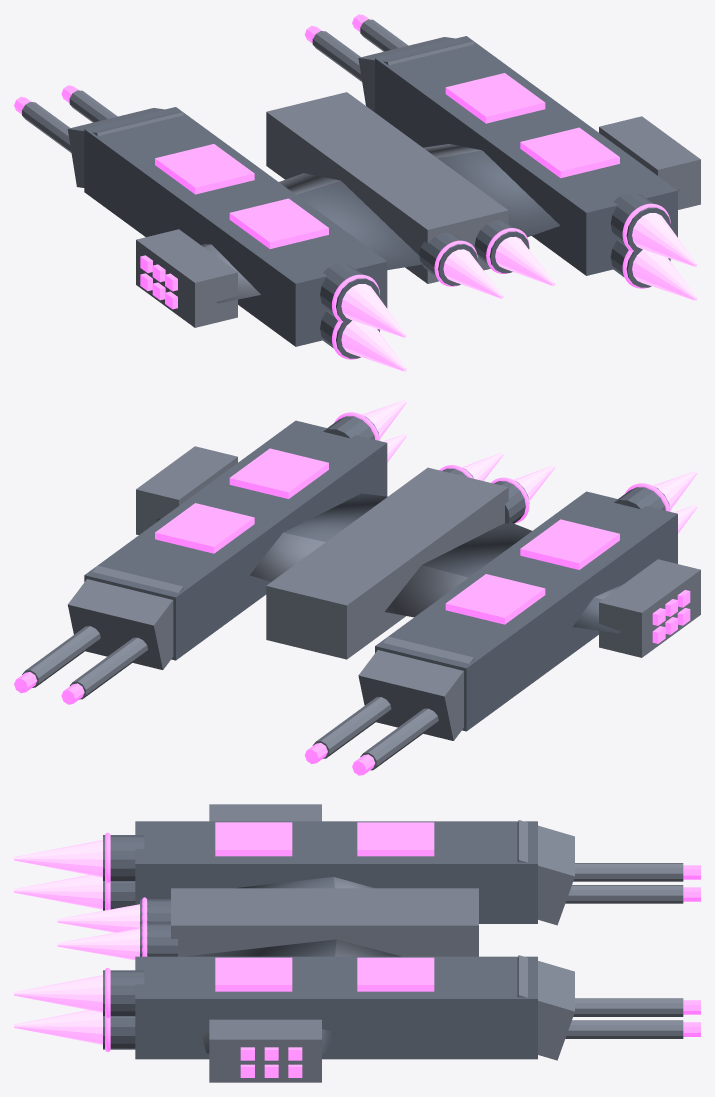
The model's file is Enemigo_Pesado.glb.
3 renders of one model, top to bottom at view 1: azimuth 30°, elevation 25°; view 2: azimuth 150°, elevation 25°; view 3: azimuth 270°, elevation 25°, orthographic. The views are drawn at different scales.
Parts seen in each view (by area): view 1: Cube.002, Cube.013, Cube, Cube.006, Puente_Transversal_Golem_-1.0, Cube.017, Puente_Transversal_Golem_1.0, Cube.015, Cube.004, Cube.005, Cube.016, propulsor.001 (+18 smaller); view 2: Cube.002, Cube, Cube.013, Cube.014, Cube.003, Cube.006, Puente_Transversal_Golem_-1.0, Cube.017, Puente_Transversal_Golem_1.0, Cube.004, Cube.005, Cube.016 (+12 smaller); view 3: Cube.013, Cube.002, Cube, Cube.017, Cube.003, Cube.014, Cube.004, Cube.005, Cube.015, Cube.016, Cylinder.002, Cylinder.006 (+17 smaller).
Part boxes in pixels (x1,y1,x2,y2): Cube.002: (84,107,387,346); Cube.013: (375,36,677,275); Cube: (266,92,508,283); Cube.006: (136,229,237,327); Puente_Transversal_Golem_-1.0: (279,173,422,269); Cube.017: (599,116,700,209); Puente_Transversal_Golem_1.0: (423,144,560,237); Cube.015: (445,73,545,123); Cube.004: (155,144,254,194); Cube.005: (229,198,328,248); Cube.016: (520,127,619,178); propulsor.001: (341,284,406,337); Cube.002: (375,491,677,731); Cube: (266,467,508,659); Cube.013: (84,420,387,660); Cube.014: (67,565,183,669); Cube.003: (358,636,474,740); Cube.006: (599,559,700,657); Puente_Transversal_Golem_-1.0: (384,522,531,617); Cube.017: (136,446,237,534); Puente_Transversal_Golem_1.0: (250,493,387,581); Cube.004: (445,574,545,624); Cube.005: (520,519,619,569); Cube.016: (229,448,328,498); Cube.013: (135,956,537,1059); Cube.002: (135,821,537,923); Cube: (171,888,478,956); Cube.017: (209,1019,321,1082); Cube.003: (517,820,574,925); Cube.014: (517,955,574,1060); Cube.004: (357,822,434,856); Cube.005: (215,822,292,856); Cube.015: (357,957,434,991); Cube.016: (215,957,292,991); Cylinder.002: (565,885,683,903); Cylinder.006: (565,1020,683,1038).
Size of the model in its own units: 4.81 by 0.74 by 5.8.
